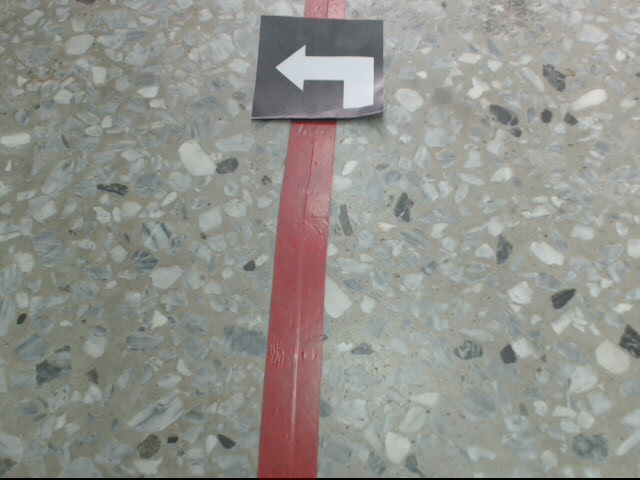left: (253, 16, 385, 121)
